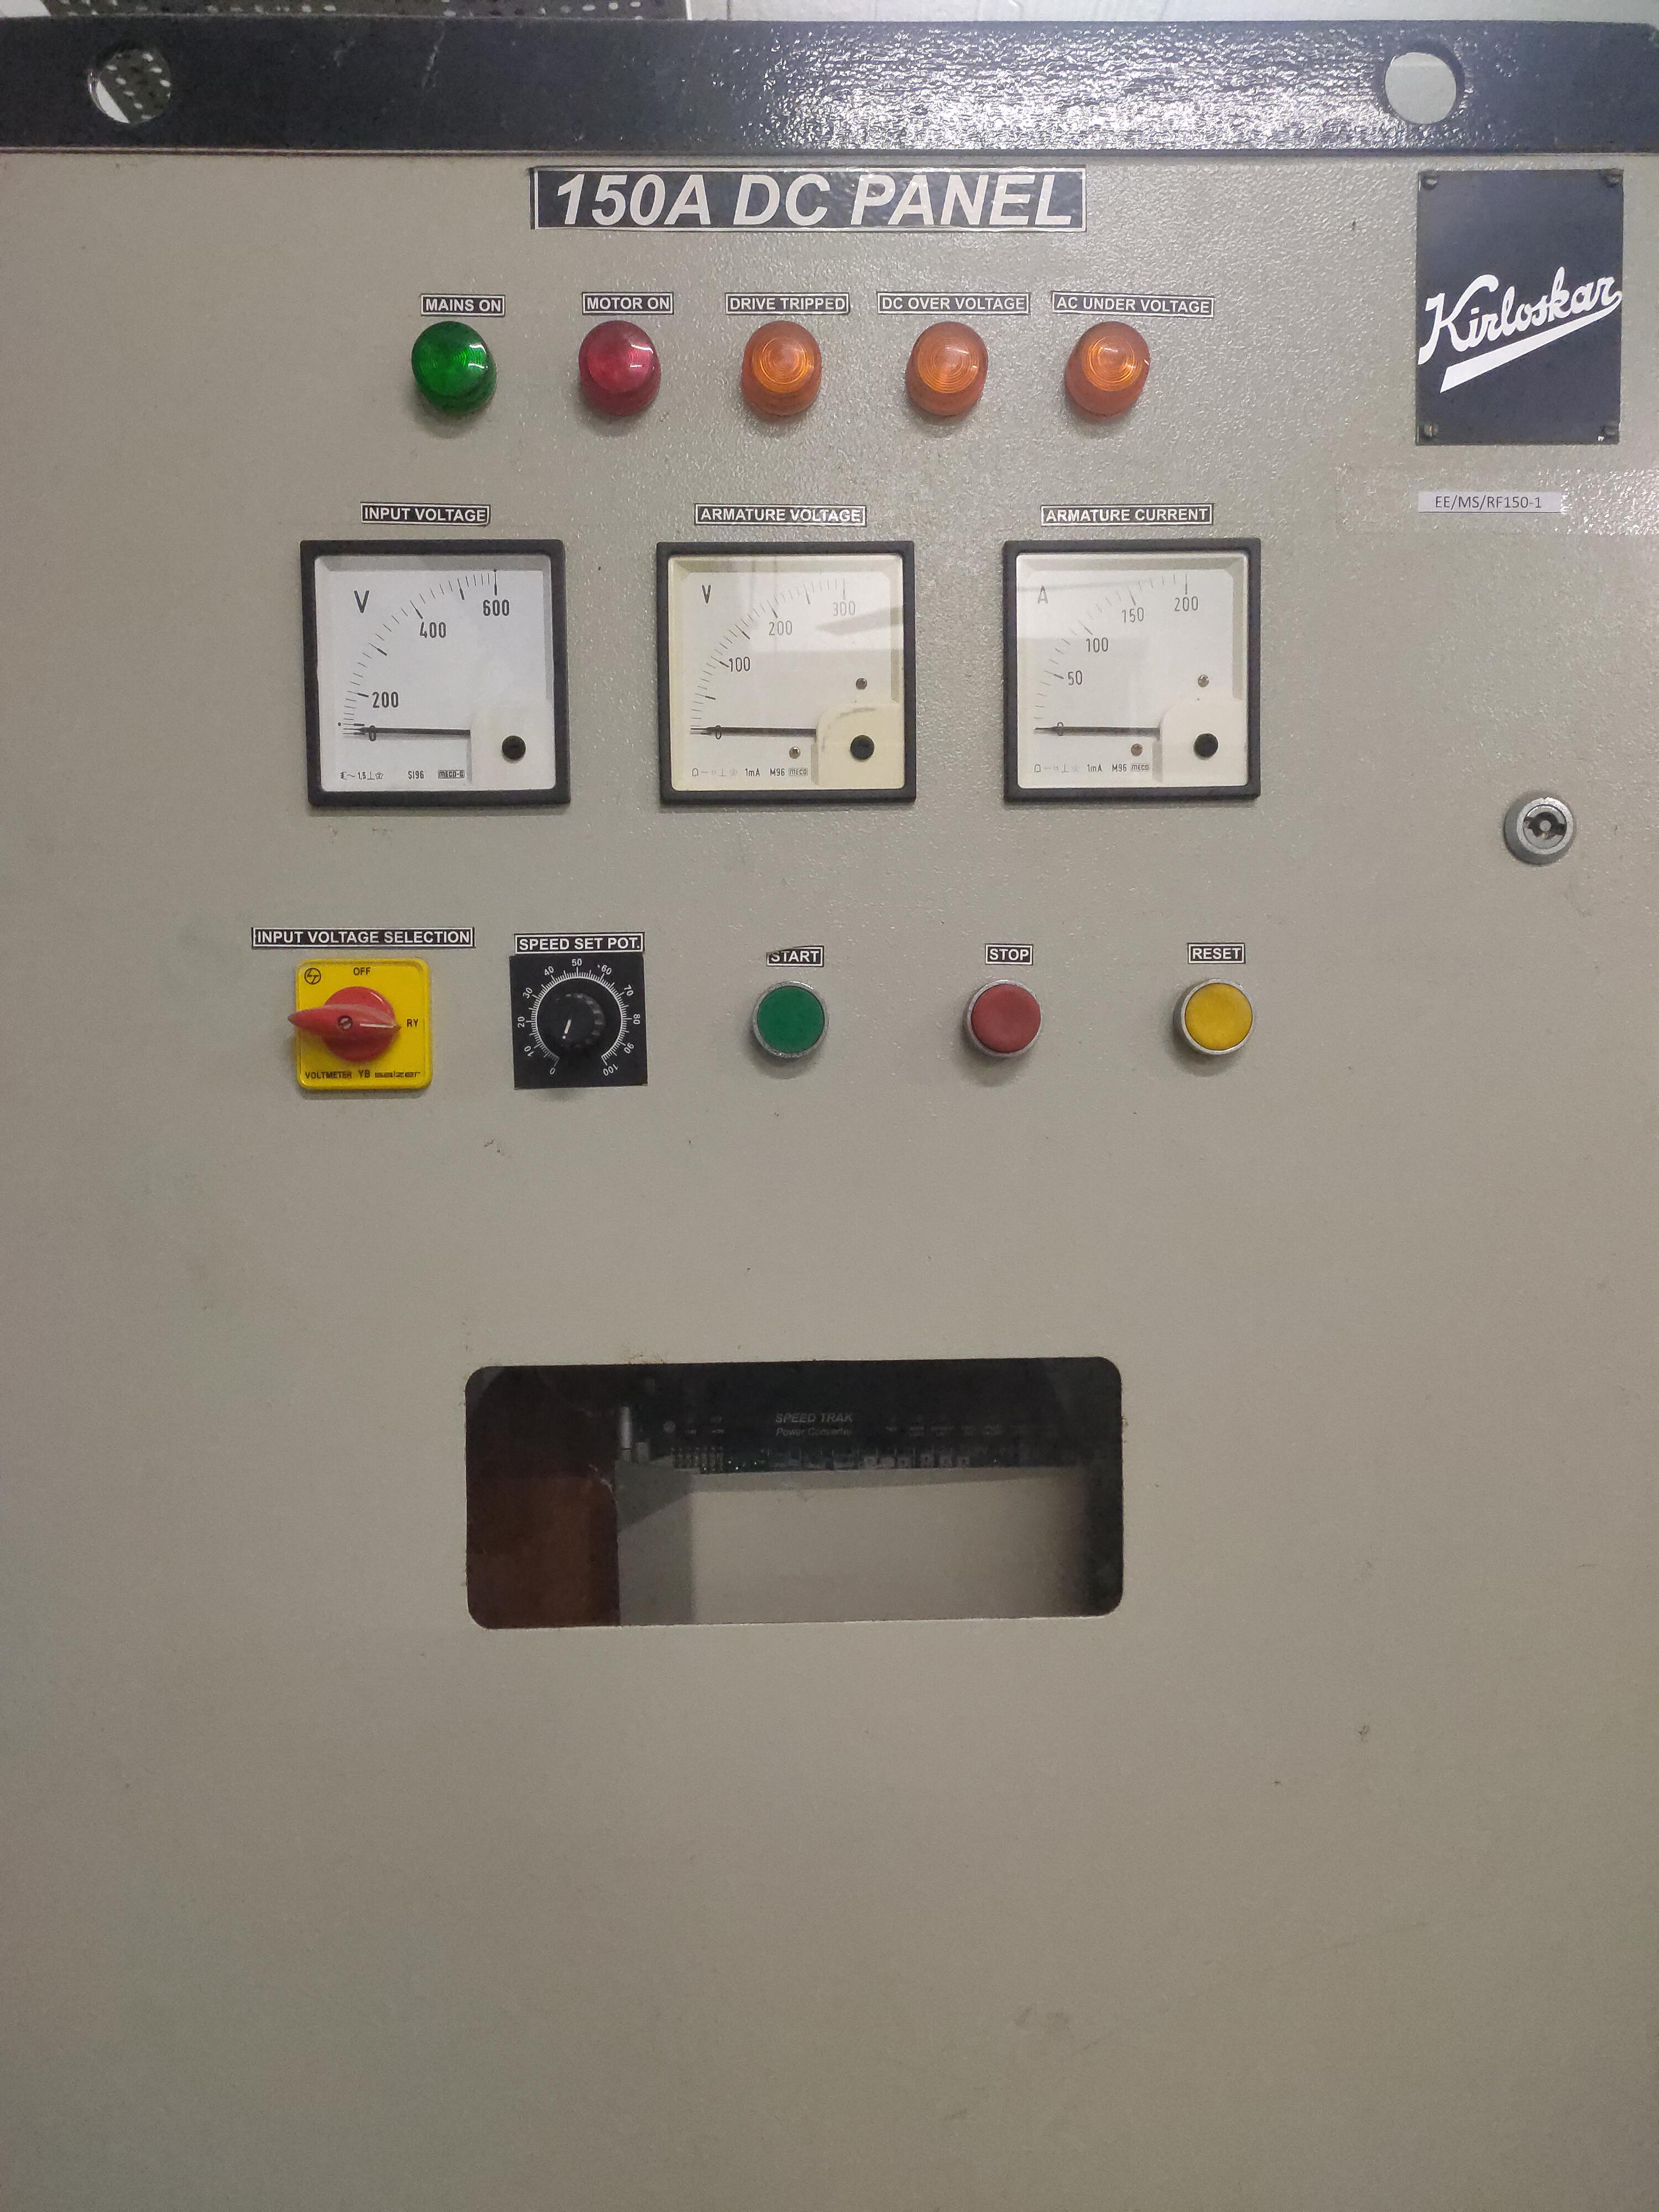Light Indications: (345, 260, 1248, 455)
